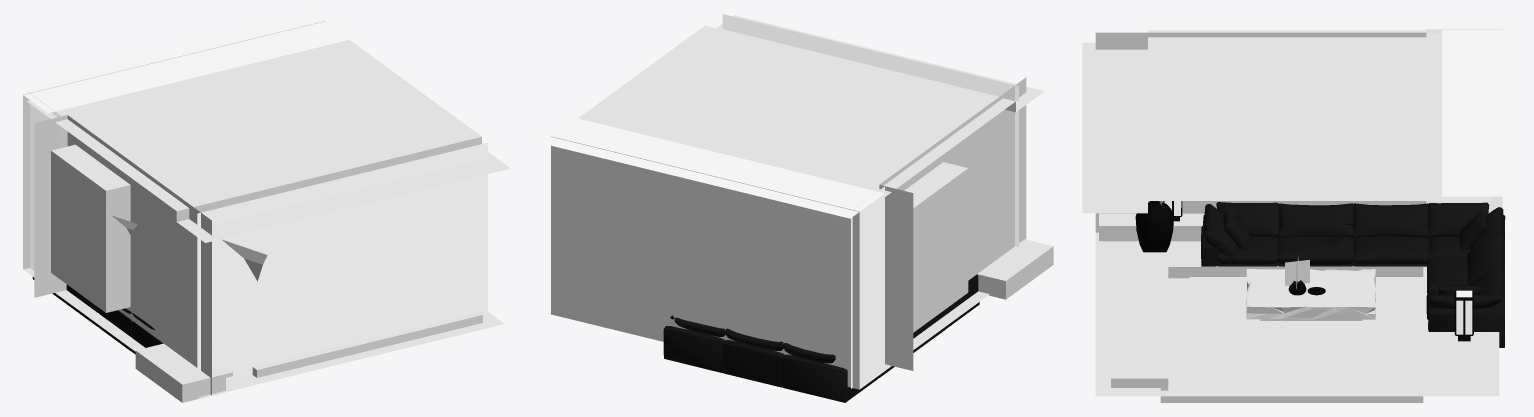
Rendered from loft16.glb.
The picture shows the model from 3 angles, left to right: view 1: azimuth 30°, elevation 25°; view 2: azimuth 150°, elevation 25°; view 3: azimuth 270°, elevation 25°; orthographic projection. The views are drawn at different scales.
Visible parts, largest first — view 1: Plane.003, Plane.006, Plane.005, Plane.023, Plane, Plane.008, Plane.007, Plane.002, node_0.002_S-Remesh.003, Plane.004, Plane.016; view 2: Plane.002, Plane.003, Plane.005, Plane.023, node_0.002_S-Remesh.003, Plane.006, Plane.004, Plane.008, Plane; view 3: Plane.003, Plane, node_0.002_S-Remesh.003, Plane.023, Plane.001, Plane.007, Cube.003, Plane.005, Plane.008, Cube.006, Cube, Plane.021 (+1 smaller).
Boxes of the visible parts, x1,y1,x2,y2 form: Plane.003: (26, 40, 510, 242); Plane.006: (197, 142, 487, 381); Plane.005: (34, 115, 211, 394); Plane.023: (14, 14, 353, 113); Plane: (23, 268, 504, 398); Plane.008: (135, 343, 232, 402); Plane.007: (252, 311, 482, 377); Plane.002: (23, 21, 325, 269); node_0.002_S-Remesh.003: (32, 277, 163, 354); Plane.004: (28, 92, 61, 290); Plane.016: (221, 239, 267, 281); Plane.002: (551, 136, 859, 389); Plane.003: (578, 15, 1044, 213); Plane.005: (879, 77, 1026, 370); Plane.023: (539, 117, 884, 218); node_0.002_S-Remesh.003: (663, 274, 979, 402); Plane.006: (722, 14, 1018, 247); Plane.004: (851, 186, 884, 388); Plane.008: (977, 239, 1053, 299); Plane: (549, 291, 989, 389); Plane.003: (1082, 30, 1491, 213); Plane: (1095, 232, 1499, 402); node_0.002_S-Remesh.003: (1201, 202, 1505, 347); Plane.023: (1442, 26, 1519, 196); Plane.001: (1189, 277, 1423, 351); Plane.007: (1111, 252, 1168, 390); Cube.003: (1246, 269, 1375, 320); Plane.005: (1095, 32, 1426, 232); Plane.008: (1099, 213, 1204, 241); Cube.006: (1135, 201, 1173, 252); Cube: (1454, 290, 1473, 341); Plane.021: (1285, 259, 1309, 285).
Bounding box in the file's own units: 15.95 × 8.84 × 16.2.
11 materials, 9 textured.
